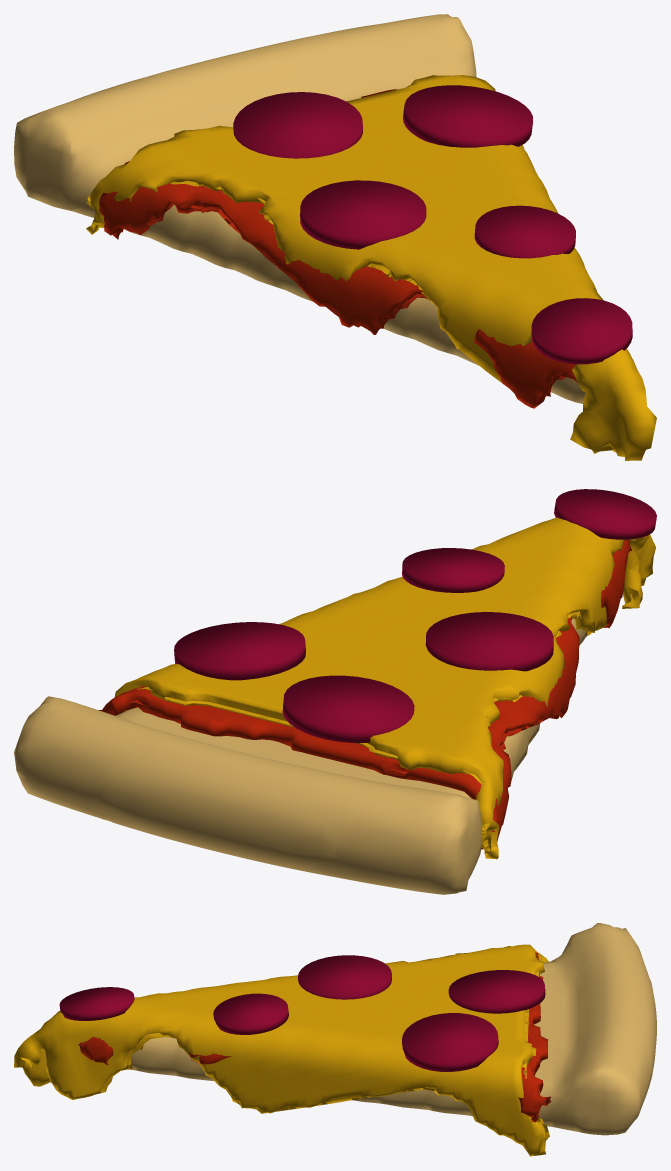
File: pizza_slice.glb
3 renders of one model, top to bottom at view 1: azimuth 30°, elevation 25°; view 2: azimuth 150°, elevation 25°; view 3: azimuth 270°, elevation 25°, orthographic. The views are drawn at different scales.
Visible parts, largest first — view 1: pizza; view 2: pizza; view 3: pizza.
Part boxes in pixels (left/top/right/bottom): pizza: left=14, top=14, right=656, bottom=460; pizza: left=14, top=489, right=656, bottom=894; pizza: left=14, top=923, right=656, bottom=1156.
Size of the model in its own units: 2.09 by 0.6115 by 3.59.
1 material, 1 textured.
